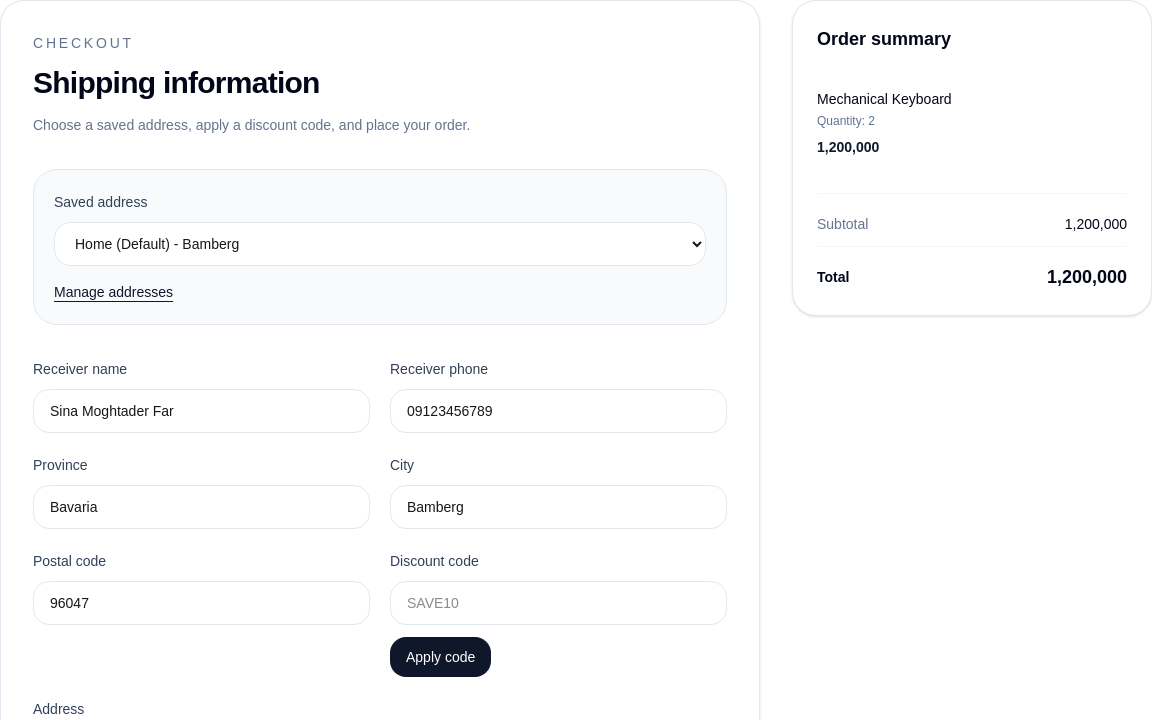
CheckoutForm › shows error when applying an empty discount code
Expected: the heading "Shipping information" is shown, x1=33 y1=66 x2=320 y2=99
Click the button "Apply code". click: coordinates (441, 657)
box: x1=390 y1=637 x2=491 y2=677
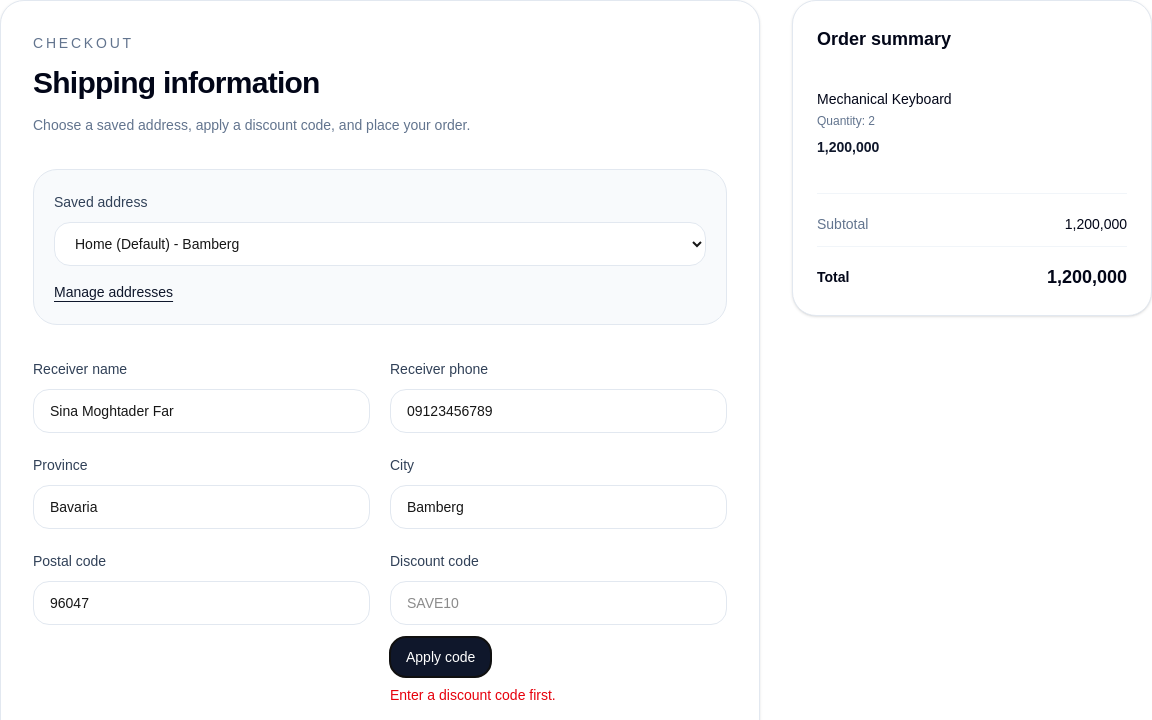
Now the text "Enter a discount code first." is shown, box x1=390 y1=687 x2=556 y2=703
